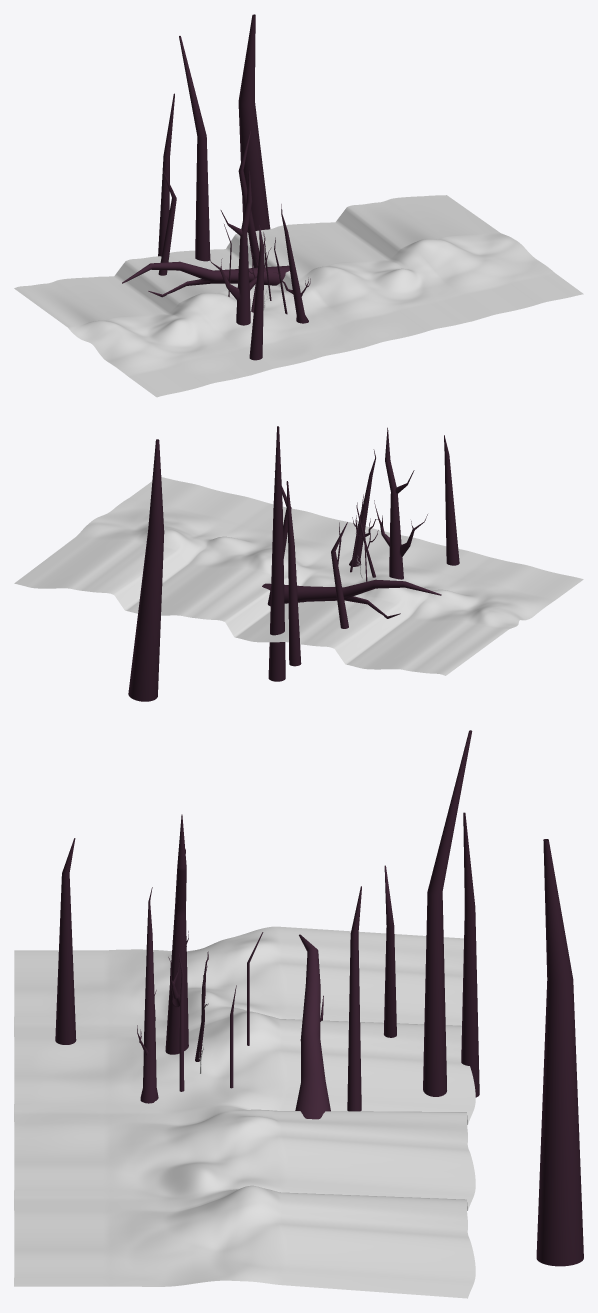
The model's file is VOW1.fbx.
The picture shows the model from 3 angles, top to bottom: view 1: azimuth 30°, elevation 25°; view 2: azimuth 150°, elevation 25°; view 3: azimuth 270°, elevation 25°; orthographic projection. The views are drawn at different scales.
Parts seen in each view (by area): view 1: Plane, Cylinder.012, Cylinder.008, Cylinder, Cylinder.006, Cylinder.011, Cylinder.009, Cylinder.002, Cylinder.007, Cylinder.010; view 2: Plane, Cylinder.012, Cylinder.008, Cylinder.006, Cylinder, Cylinder.009, Cylinder.011, Cylinder.002, Cylinder.010; view 3: Plane, Cylinder.012, Cylinder.008, Cylinder.006, Cylinder.009, Cylinder, Cylinder.011, Cylinder.007, Cylinder.002, Cylinder.010.
Boxes of the visible parts, x1,y1,x2,y2 form: Plane: (14, 195, 583, 397); Cylinder.012: (238, 14, 270, 231); Cylinder.008: (179, 36, 210, 261); Cylinder: (208, 169, 271, 325); Cylinder.006: (122, 261, 289, 297); Cylinder.011: (249, 225, 264, 360); Cylinder.009: (158, 93, 174, 256); Cylinder.002: (273, 204, 310, 323); Cylinder.007: (238, 130, 259, 267); Cylinder.010: (158, 171, 176, 275); Plane: (14, 477, 583, 675); Cylinder.012: (128, 439, 164, 701); Cylinder.008: (268, 426, 285, 681); Cylinder.006: (262, 579, 441, 618); Cylinder: (374, 427, 427, 579); Cylinder.009: (286, 481, 301, 666); Cylinder.011: (444, 435, 459, 565); Cylinder.002: (349, 449, 377, 566); Cylinder.010: (331, 522, 348, 628); Plane: (14, 926, 475, 1298); Cylinder.012: (536, 839, 583, 1266); Cylinder.008: (423, 730, 472, 1096); Cylinder.006: (295, 934, 330, 1119); Cylinder.009: (461, 812, 479, 1097); Cylinder: (165, 814, 188, 1054); Cylinder.011: (55, 838, 76, 1044); Cylinder.007: (347, 886, 361, 1111); Cylinder.002: (137, 887, 158, 1103); Cylinder.010: (384, 865, 396, 1037).
Bounding box in the file's own units: 8931 × 5378 × 6254.
